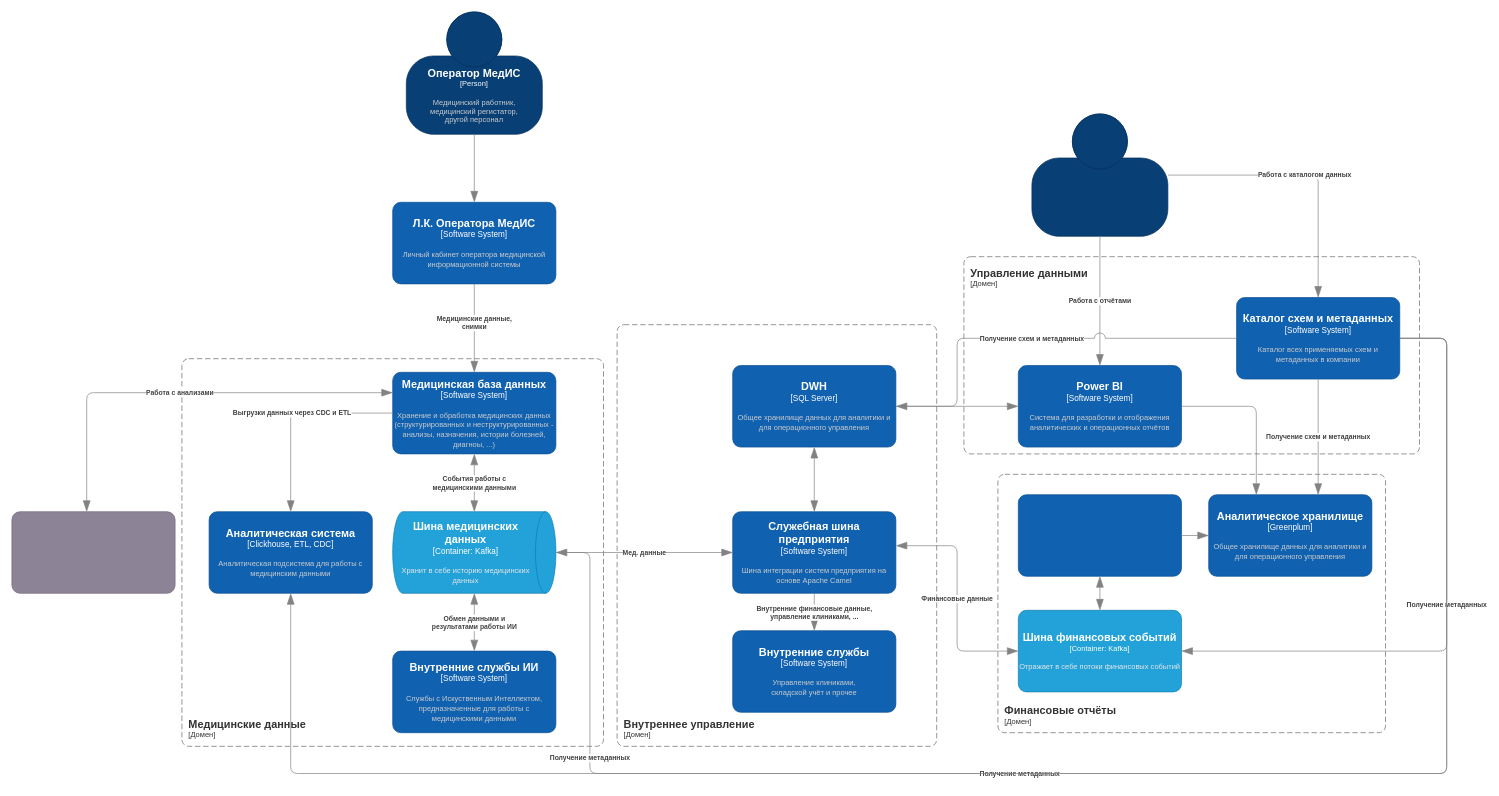
This 1499x796 diagram has some shape labels left out. Each missing label, with the centre of its shape:
"Лабораторная система [Software System] Внешние системы лабораторных организаций" goes at pixel 93 552.
"Продуктовый аналитик [Person] Аналитик продуктовой команды какого-либо домена" goes at pixel 1099 174.
"ФинТех Службы [Software System] Набор служб, выполняющих финансовые задачи" goes at pixel 1100 535.
